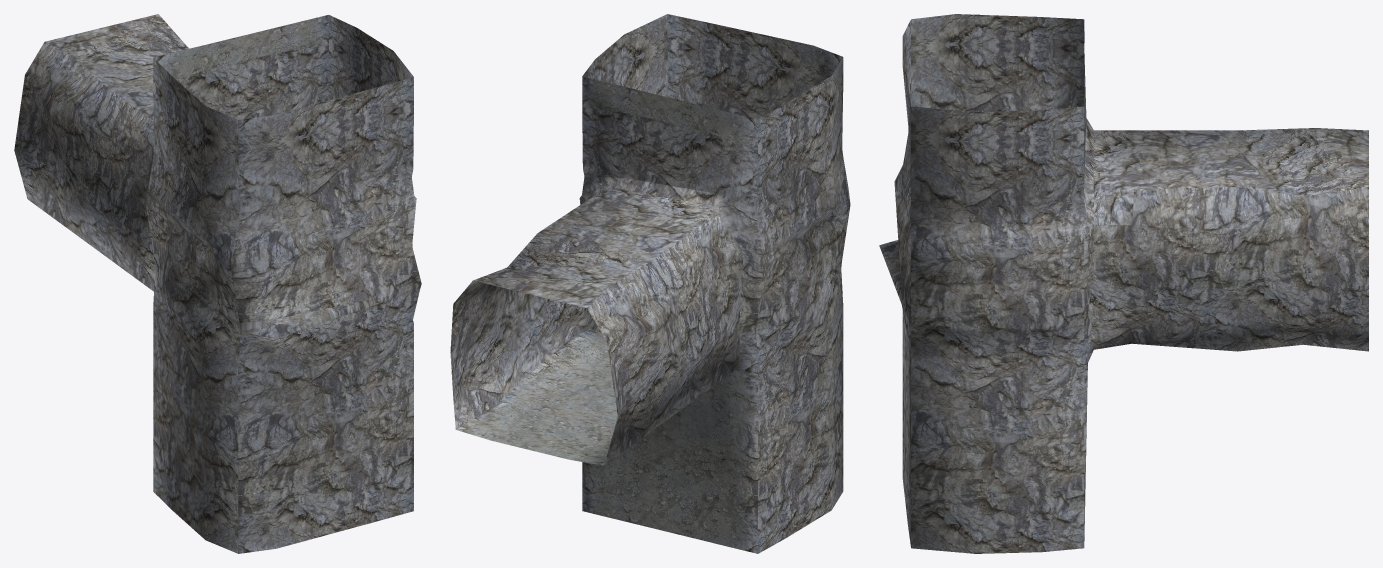
The model's file is elevatorRoom.fbx.
3 views of the same model, side by side, from view 1: azimuth 30°, elevation 25°; view 2: azimuth 150°, elevation 25°; view 3: azimuth 270°, elevation 25° (orthographic).
Visible parts, largest first — view 1: Mine_11; view 2: Mine_11; view 3: Mine_11.
Part boxes in pixels (box(x1,y1,x2,y2)): Mine_11: box(14, 14, 421, 553); Mine_11: box(450, 14, 850, 553); Mine_11: box(879, 14, 1368, 553).
Bounding box in the file's own units: 468 × 922 × 926.
